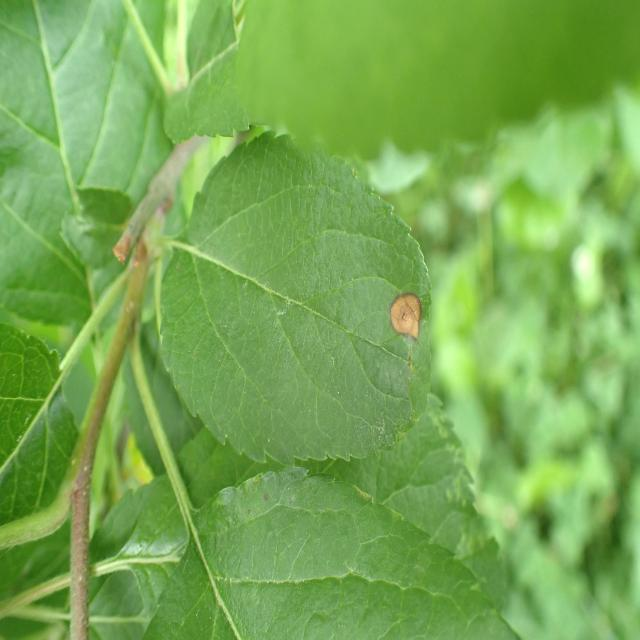Black Rot: (386, 264, 430, 359)
